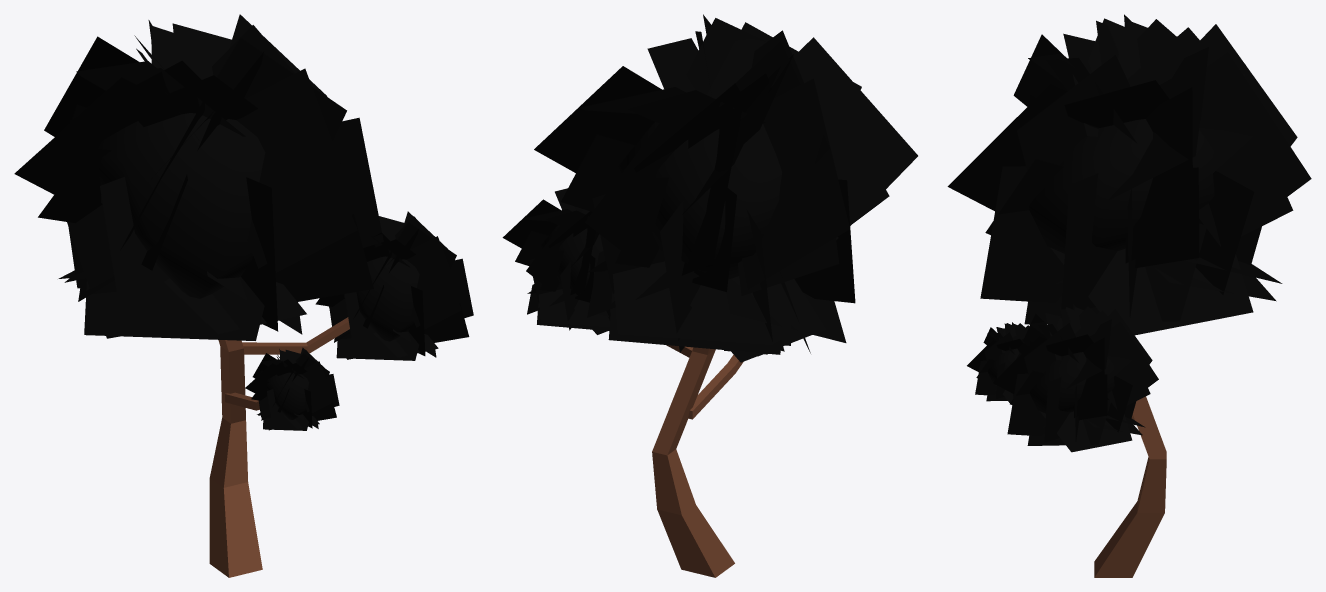
Rendered from FBX_Tree_D_2.fbx.
3 renders of one model, left to right at view 1: azimuth 30°, elevation 25°; view 2: azimuth 150°, elevation 25°; view 3: azimuth 270°, elevation 25°, orthographic. The views are drawn at different scales.
Visible parts, largest first — view 1: Tree_D_2; view 2: Tree_D_2; view 3: Tree_D_2.
Boxes of the visible parts, x1,y1,x2,y2 form: Tree_D_2: (14,14,473,577); Tree_D_2: (502,14,917,577); Tree_D_2: (947,14,1311,577).
Bounding box in the file's own units: 297 × 245 × 385.
